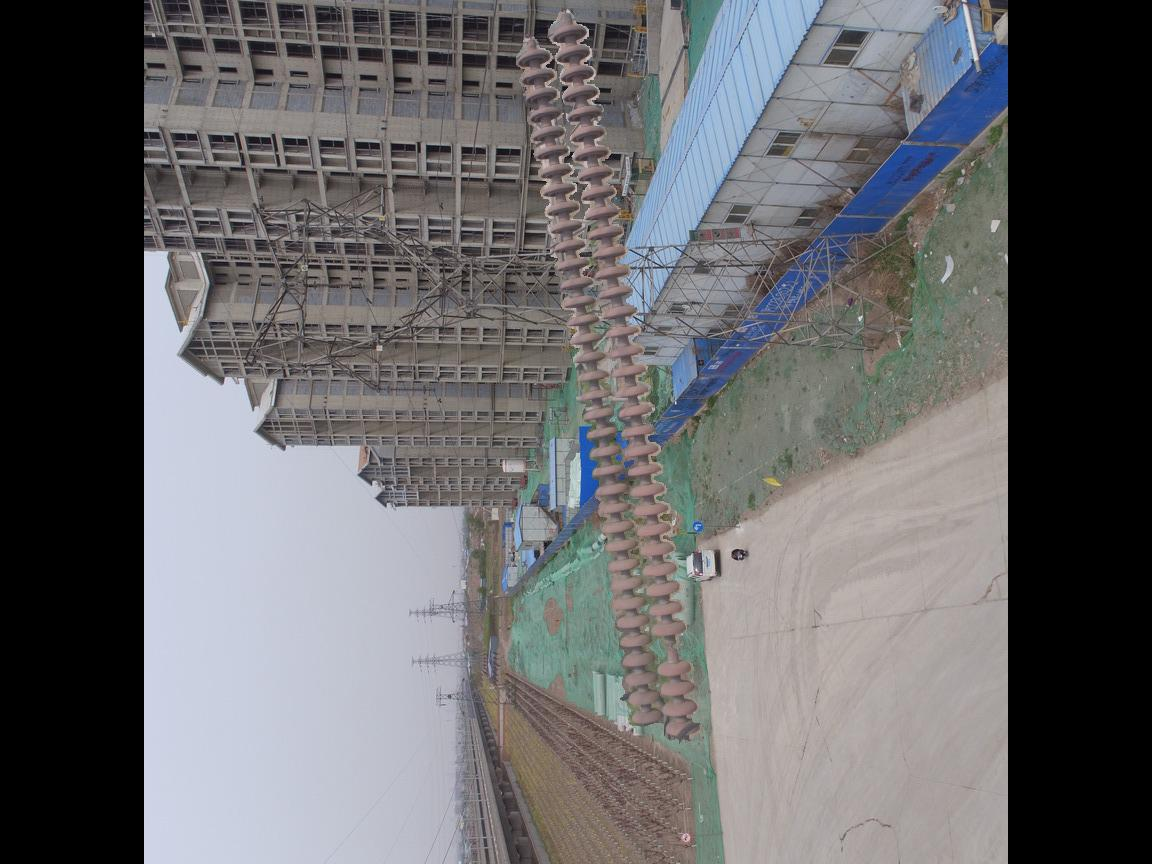insulator: (511, 22, 708, 751)
insulator_stringdrop: (647, 618, 695, 681)
